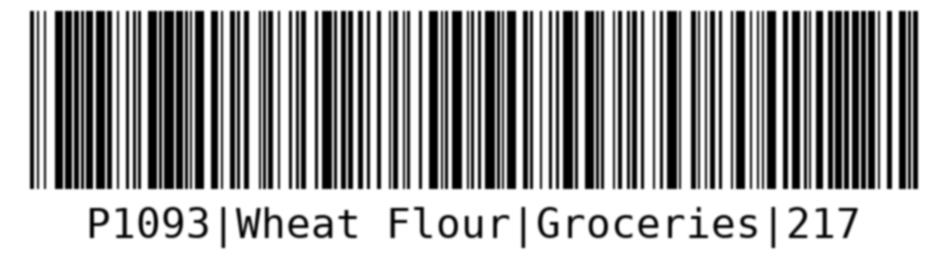milk: (17, 4, 930, 254)
